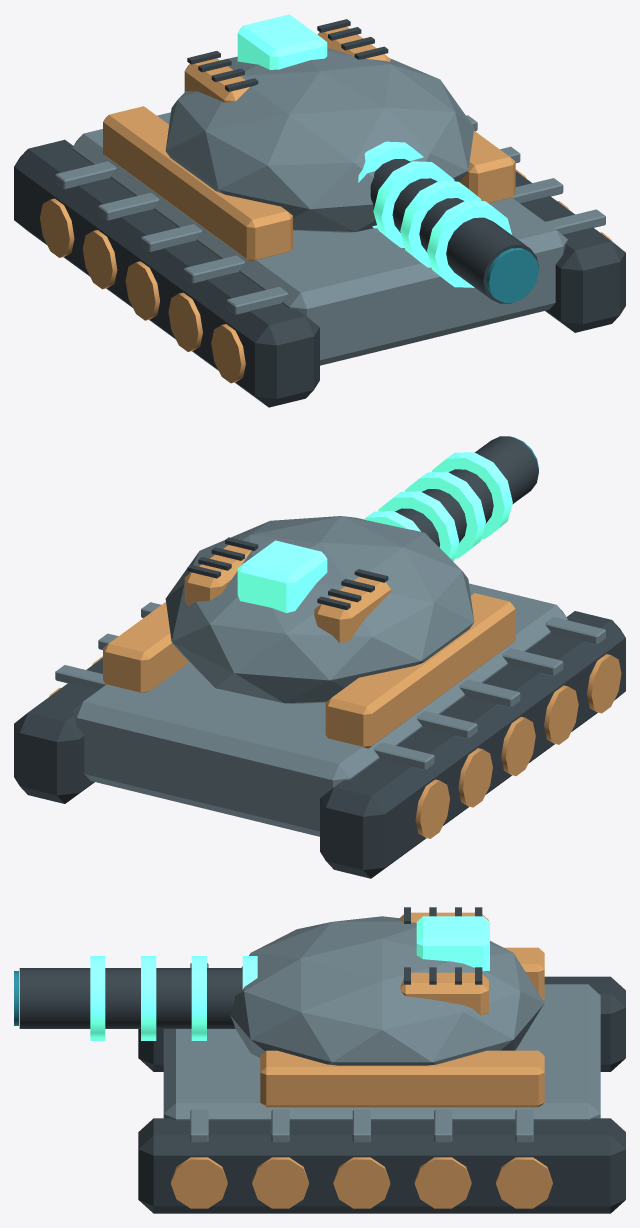
File: boss-laser.glb
3 renders of one model, top to bottom at view 1: azimuth 30°, elevation 25°; view 2: azimuth 150°, elevation 25°; view 3: azimuth 270°, elevation 25°, orthographic. The views are drawn at different scales.
Parts seen in each view (by area): view 1: Laser turret, Lower chassis, Track housing, Battery enclosure, Track housing.001, Laser emitter, Core, Battery enclosure.001, Cooling coil.004, Focusing lens, Cooling coil.002, Cooling coil.003 (+15 smaller); view 2: Lower chassis, Laser turret, Track housing, Battery enclosure, Track housing.001, Core, Battery enclosure.001, Laser emitter, Capacitor, Cooling coil.004, Cooling coil.003, Cooling coil.002 (+13 smaller); view 3: Track housing.001, Laser turret, Lower chassis, Battery enclosure.001, Laser emitter, Track housing, Core, Capacitor.001, Road wheel.007, Road wheel.008, Road wheel.005, Road wheel.006 (+11 smaller).
Part boxes in pixels (x1,y1,x2,y2): Laser turret: (165,48,474,232); Lower chassis: (72,112,567,365); Track housing: (14,139,319,407); Battery enclosure: (103,106,292,261); Track housing.001: (515,171,625,332); Laser emitter: (370,159,538,303); Core: (237,14,327,69); Battery enclosure.001: (459,131,515,203); Cooling coil.004: (427,200,511,287); Focusing lens: (486,248,538,302); Cooling coil.002: (373,161,454,247); Cooling coil.003: (400,181,481,267); Lower chassis: (72,583,567,836); Laser turret: (165,516,474,703); Track housing: (320,611,625,878); Battery enclosure: (325,593,515,748); Track housing.001: (14,658,102,803); Core: (237,540,327,612); Battery enclosure.001: (103,602,189,692); Laser emitter: (395,436,538,547); Capacitor: (314,576,390,642); Cooling coil.004: (431,452,512,538); Cooling coil.003: (405,471,485,558); Cooling coil.002: (378,491,459,561); Track housing.001: (138,1118,625,1213); Laser turret: (230,916,544,1065); Lower chassis: (163,984,600,1120); Battery enclosure.001: (260,1050,544,1107); Laser emitter: (19,968,242,1028); Track housing: (138,976,625,1071); Core: (416,916,489,971); Capacitor.001: (400,972,488,1015); Road wheel.007: (333,1157,390,1208); Road wheel.008: (414,1157,471,1208); Road wheel.005: (171,1157,227,1208); Road wheel.006: (252,1157,308,1208).
Size of the model in its own units: 4.1 by 2.25 by 6.03.
